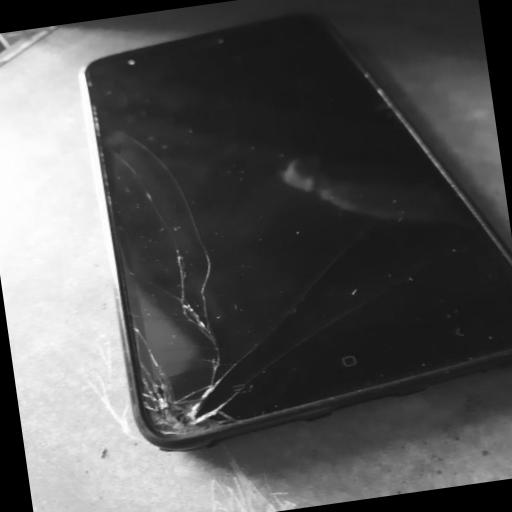phone: (83, 15, 512, 450)
